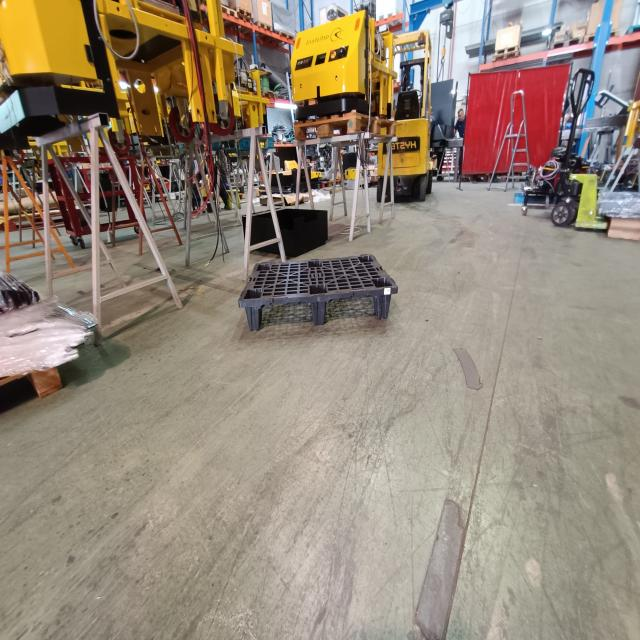block: (241, 295, 266, 330), (308, 292, 330, 328), (373, 288, 395, 320)
front: (237, 286, 402, 332)
